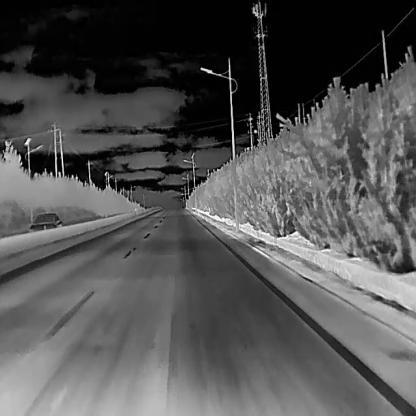car: (27, 213, 60, 231)
